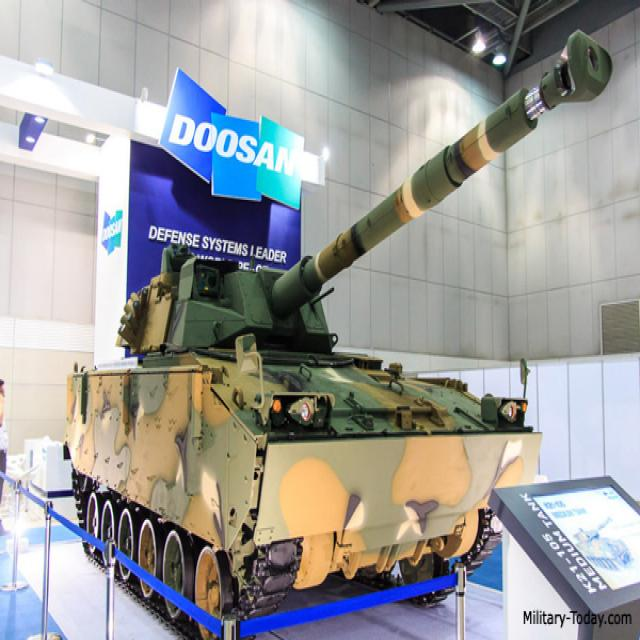Tank: (31, 132, 542, 607)
